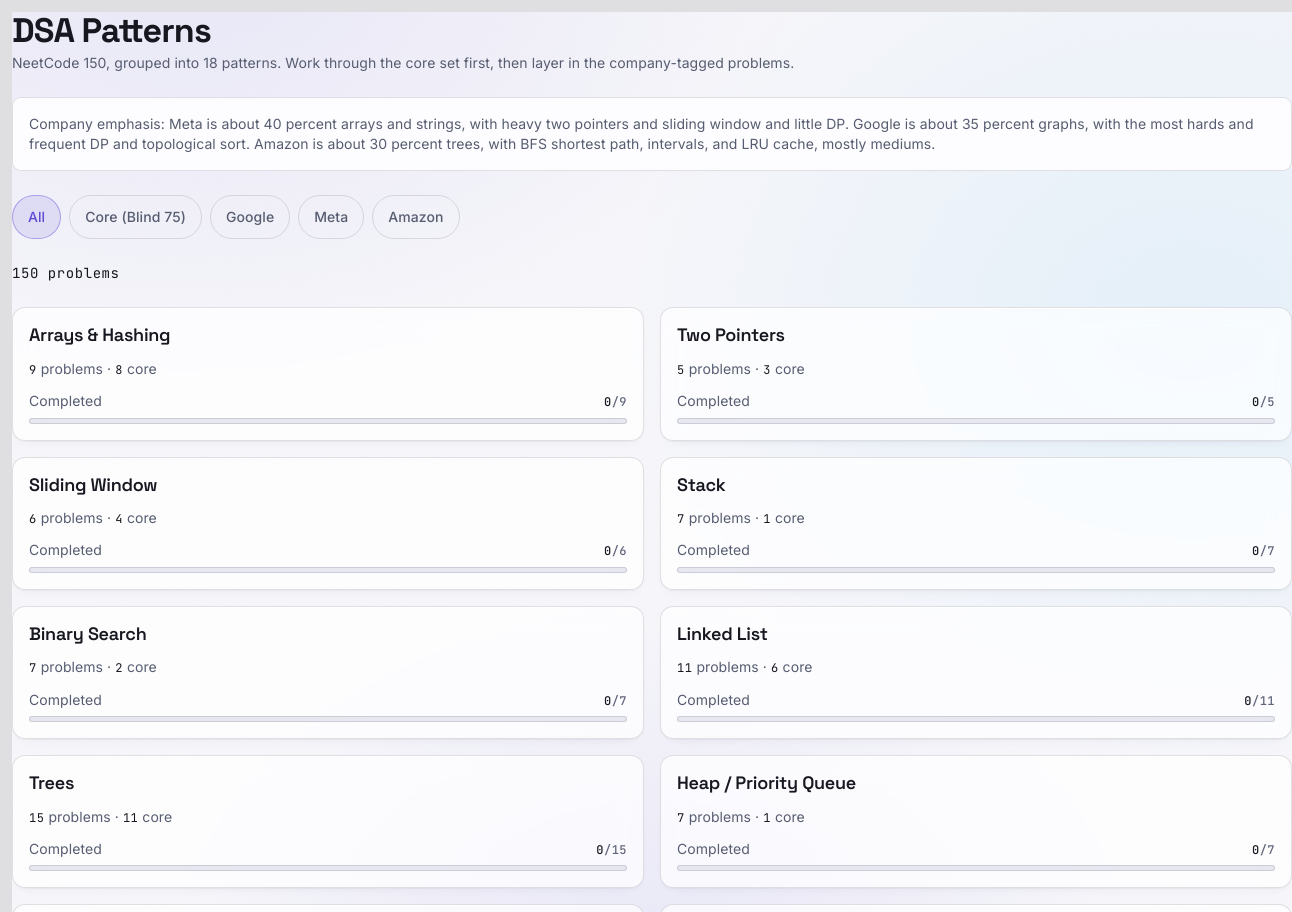
Test: DSA index › filters to core problems
Click the button "Core (Blind 75)" at (136, 217), box [69,195,202,239]
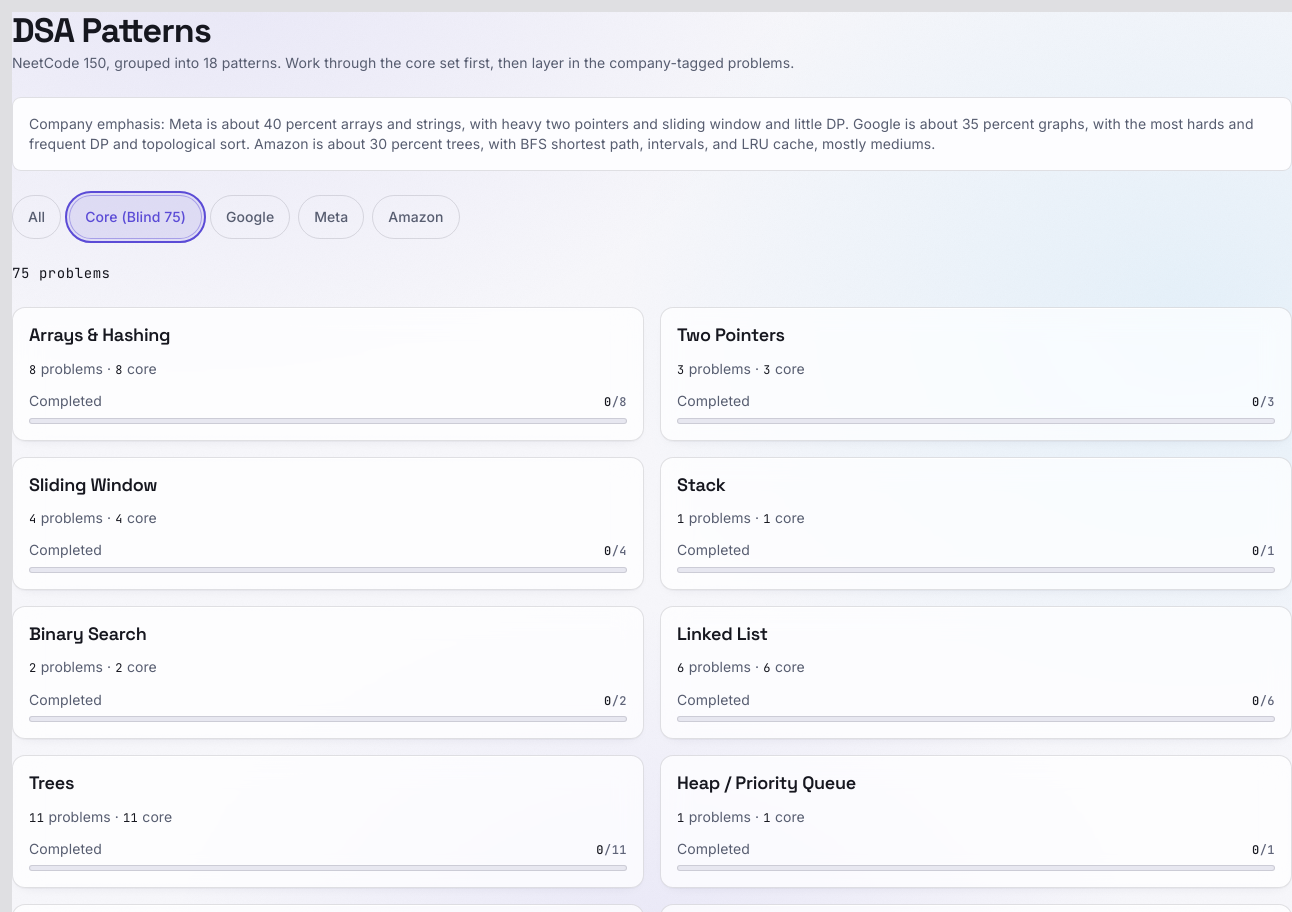
Now the text "75 problems" is shown, box [12,264,111,282]
